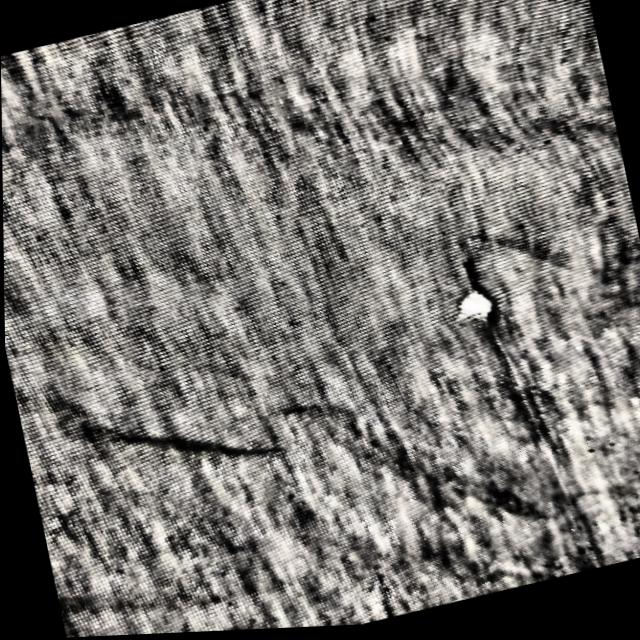Hole: (449, 285, 502, 336)
